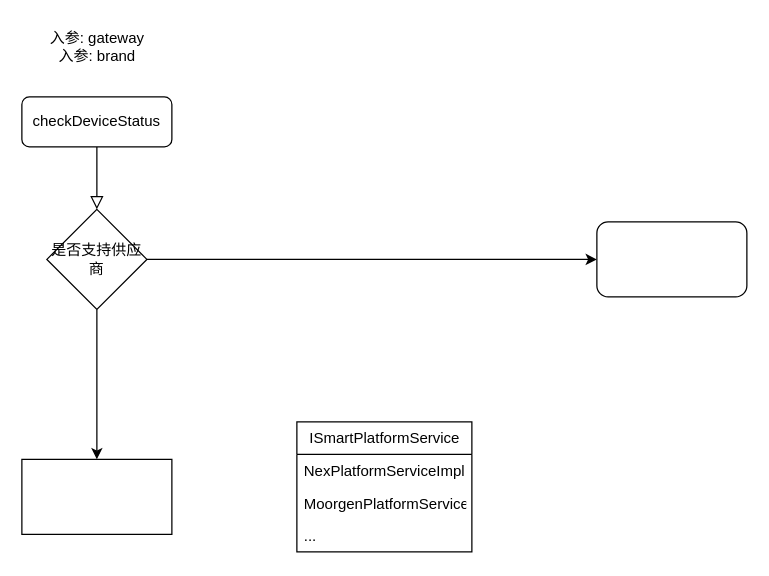
The diagram is 769 pixels wide and 576 high, and some of its shapes have lost their labels. Here are the shapes that lost their labels. From the top down, the centre of each, then its label:
At [671,259]: "报错不受支持".
At [96,496]: "调用具体供应商的实现类中的checkDeviceStatus实现,并返回".
